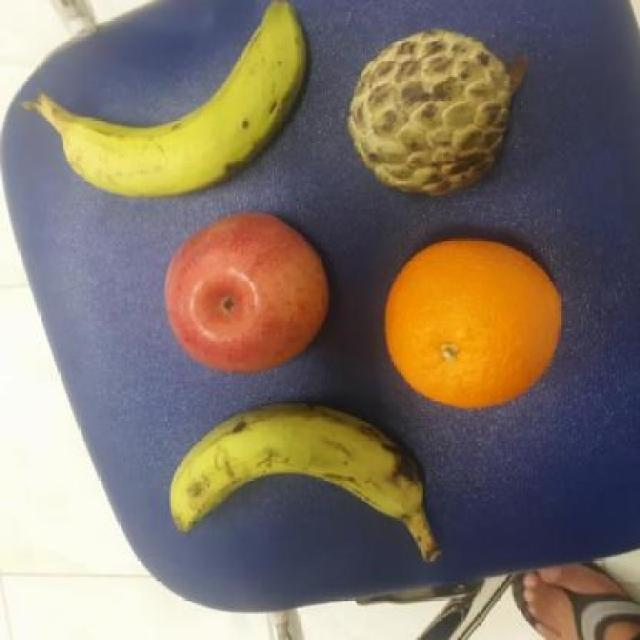apple: (160, 210, 332, 375)
banana: (49, 0, 314, 202), (166, 400, 432, 542)
oren: (382, 236, 563, 409)
sugar apple: (345, 26, 510, 200)
